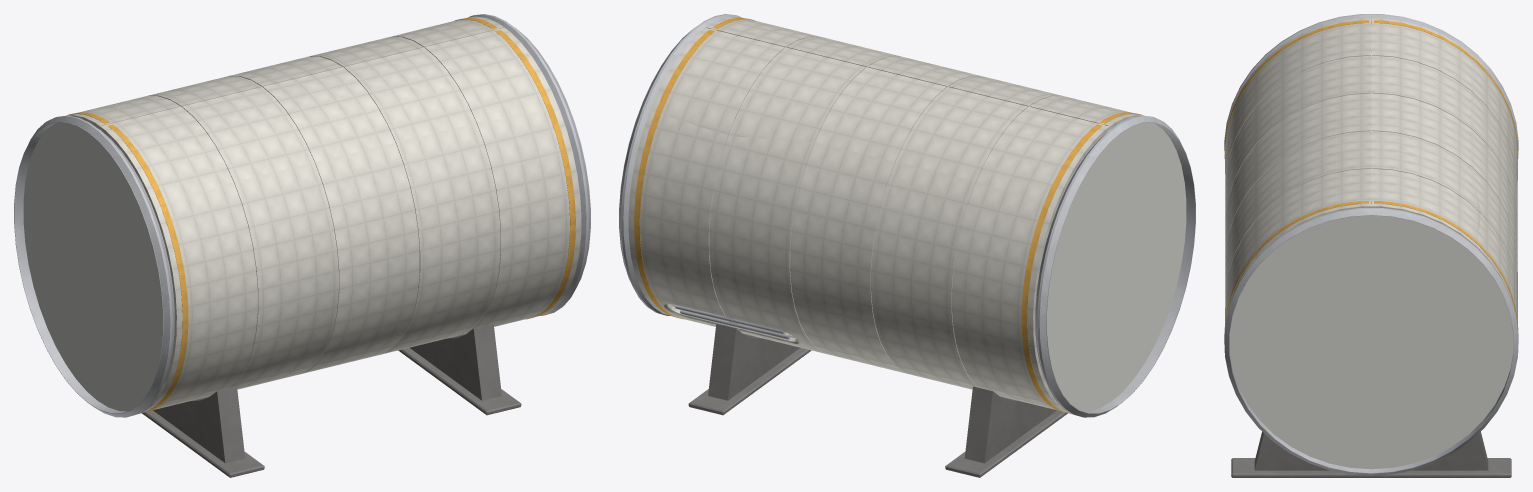
The model's file is ax_tank_12_isru_lox_l_horizontal.glb.
3 renders of one model, left to right at view 1: azimuth 30°, elevation 25°; view 2: azimuth 150°, elevation 25°; view 3: azimuth 270°, elevation 25°, orthographic. The views are drawn at different scales.
Parts seen in each view (by area): view 1: mli_blanket, dome_caps, saddles, end_rings, blanket_bands; view 2: mli_blanket, dome_caps, saddles, end_rings, blanket_bands, raceway_lines; view 3: dome_caps, mli_blanket, end_rings, saddles, blanket_bands.
Part boxes in pixels (<box>): mli_blanket: <box>65,16,581,412</box>; dome_caps: <box>23,122,162,411</box>; saddles: <box>142,324,521,477</box>; end_rings: <box>14,14,590,417</box>; blanket_bands: <box>68,17,575,413</box>; mli_blanket: <box>628,16,1144,412</box>; dome_caps: <box>670,122,1186,411</box>; saddles: <box>688,324,1067,477</box>; end_rings: <box>619,14,1195,417</box>; blanket_bands: <box>634,17,1141,413</box>; raceway_lines: <box>675,305,790,340</box>; dome_caps: <box>1229,215,1513,469</box>; mli_blanket: <box>1225,18,1517,324</box>; end_rings: <box>1224,14,1518,475</box>; saddles: <box>1231,431,1511,477</box>; blanket_bands: <box>1224,20,1518,330</box>.
Bounding box in the file's own units: 6 × 4.19 × 3.75.
5 materials, 4 textured.
